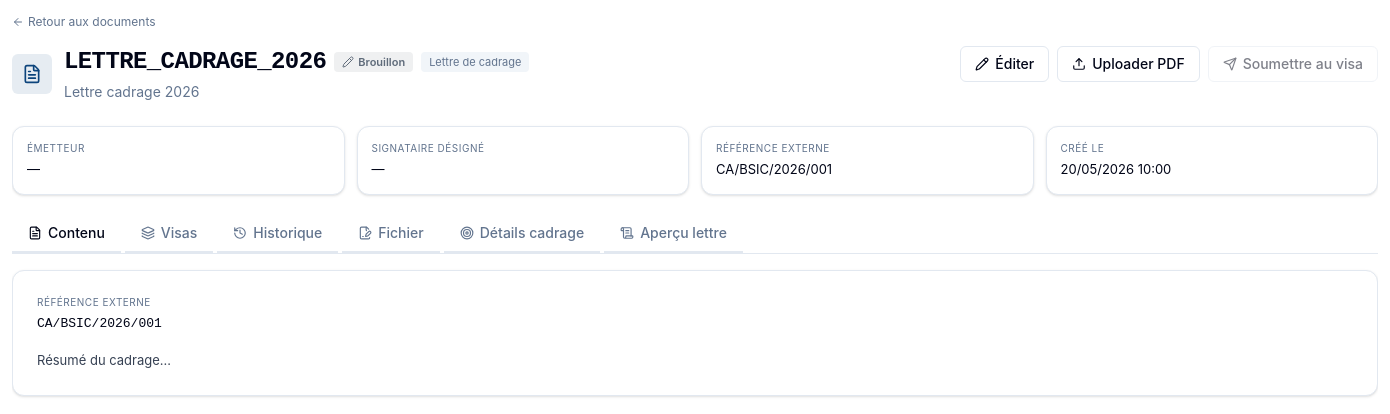
Test case: DocumentDetailPage (Lot 8.2.B P2) › 7. Tab Historique : lazy load — pas d'appel au mount, appel au clic
Expected: the heading "LETTRE_CADRAGE_2026" is shown, [64,46,326,78]
Click the tab with test id "tab-historique". click: (278, 234)
box: [217,214,338,252]
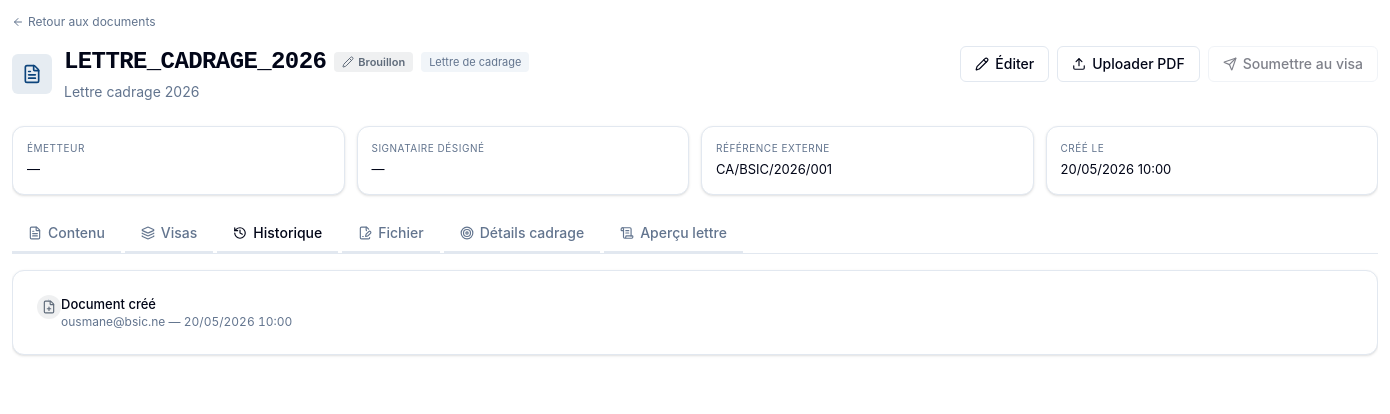
Result: the text "Document créé" is shown at [61,296,156,312]
